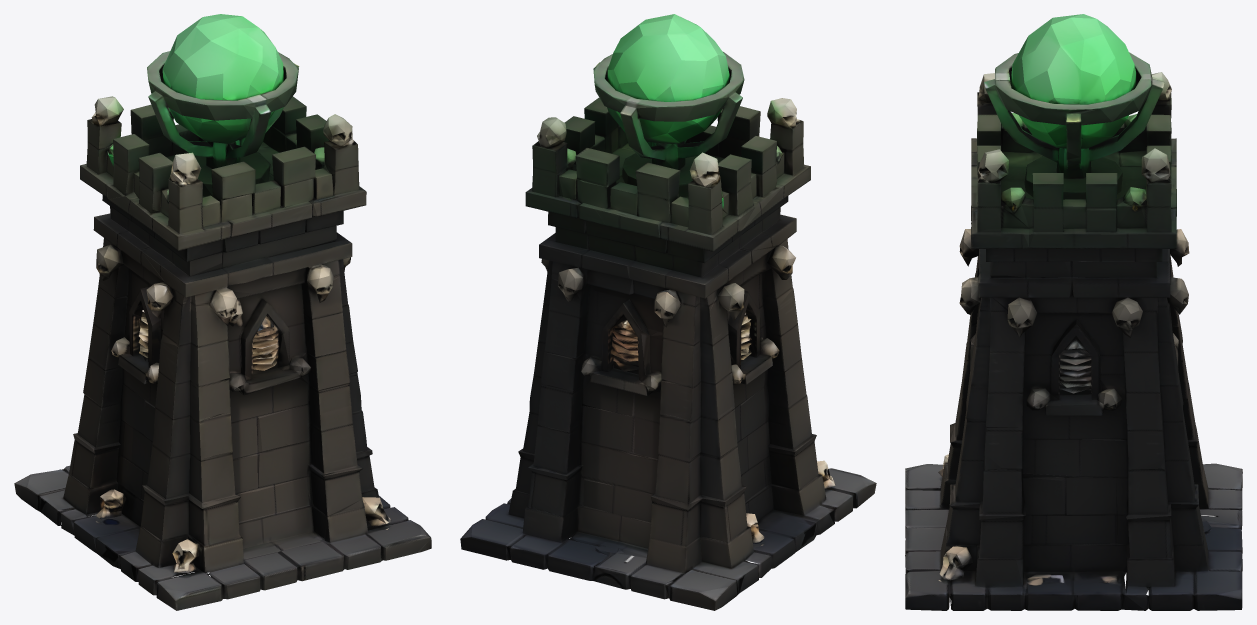
Rendered from base_basic_pbr.fbx.
3 renders of one model, left to right at view 1: azimuth 30°, elevation 25°; view 2: azimuth 150°, elevation 25°; view 3: azimuth 270°, elevation 25°, orthographic. The views are drawn at different scales.
Visible parts, largest first — view 1: model; view 2: model; view 3: model.
Part boxes in pixels (<box>): model: <box>14,14,431,610</box>; model: <box>460,14,876,610</box>; model: <box>905,14,1242,610</box>.
Size of the model in its own units: 15.98 by 30 by 17.42.
Materials: 1 (1 with a texture image).
